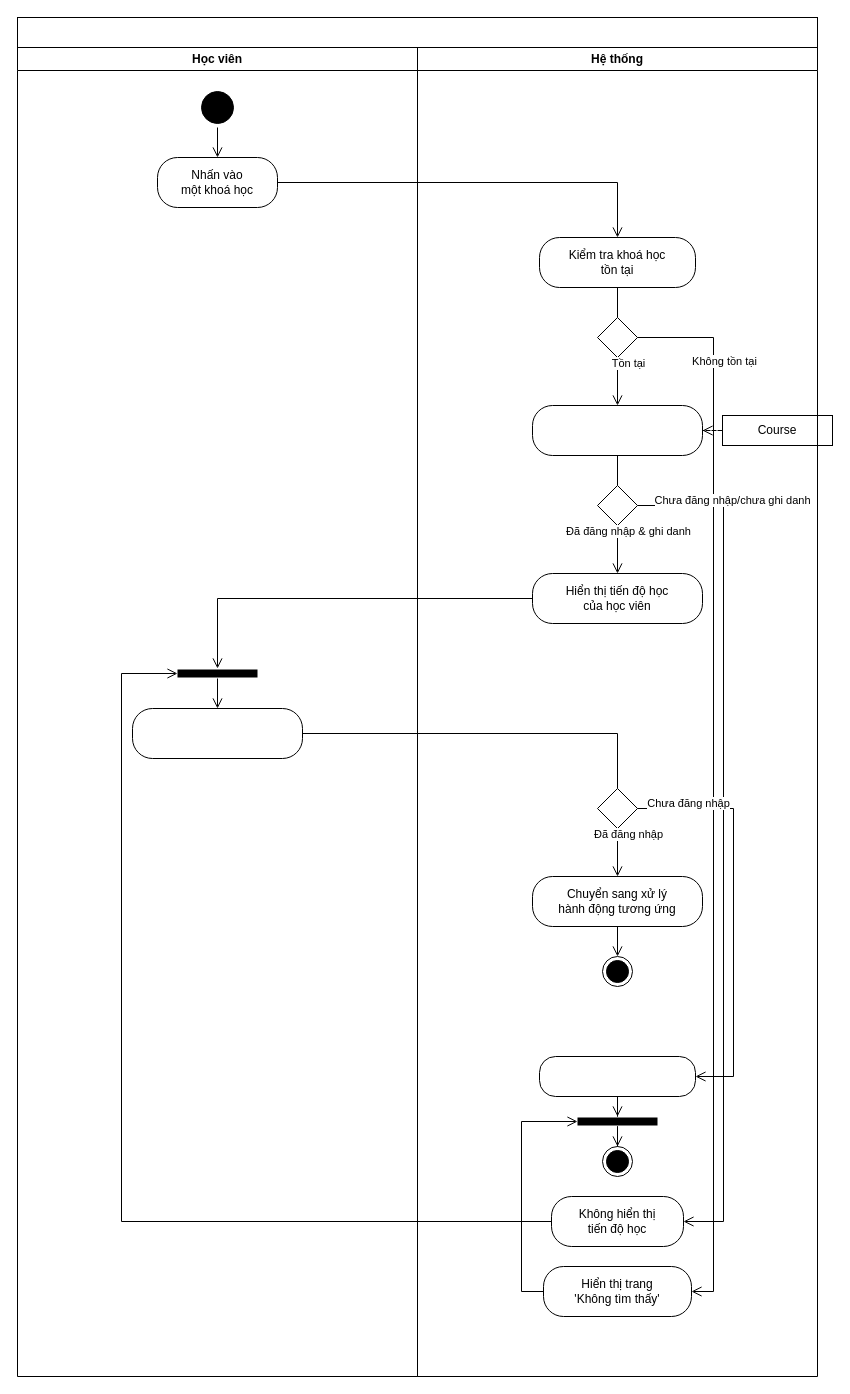
Image size: 850x1394. Some labels were removed from this diagram. Each missing label, with the centre of its shape:
(Tuỳ chọn) Nhấn nút hành động (Quan tâm/Đăng ký/ Bắt đầu học): point (217, 733)
Hiển thị tổng quan, danh sách buổi học và nút hành động phù hợp: point (617, 430)
XEM CHI TIẾT KHOÁ HỌC: point (417, 32)
Yêu cầu đăng nhập: point (617, 1076)
